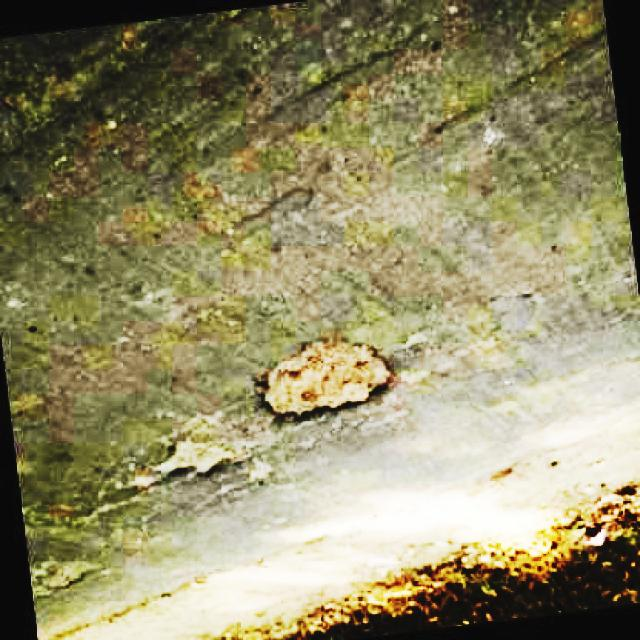pothole: (254, 338, 395, 422), (144, 437, 244, 489), (28, 560, 92, 602)
